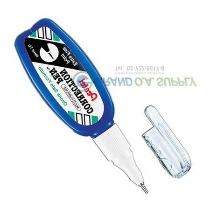correction_fluid: (13, 15, 150, 195)
